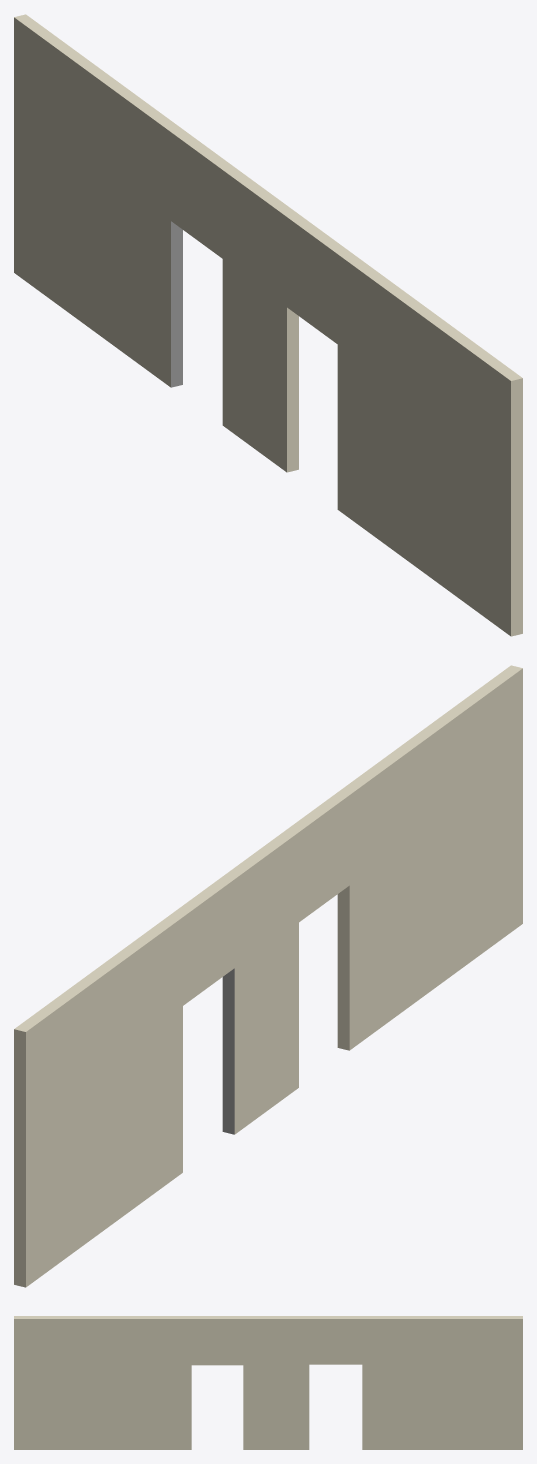
The model's file is waaaaaa.fbx.
The picture shows the model from 3 angles, top to bottom: view 1: azimuth 30°, elevation 25°; view 2: azimuth 150°, elevation 25°; view 3: azimuth 270°, elevation 25°; orthographic projection. The views are drawn at different scales.
Parts seen in each view (by area): view 1: polySurface5; view 2: polySurface5; view 3: polySurface5.
Part boxes in pixels (x1,y1,x2,y2): polySurface5: [14, 14, 522, 636]; polySurface5: [14, 665, 522, 1287]; polySurface5: [14, 1316, 522, 1449].
Size of the model in its own units: 1.16 by 23.81 by 83.94.
